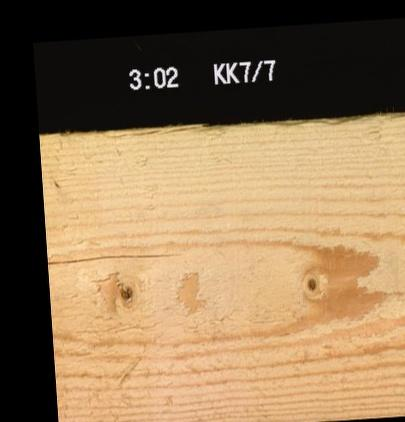small_knot: (304, 275, 316, 291)
sound_knot: (115, 278, 133, 309)
split: (47, 251, 182, 261)
